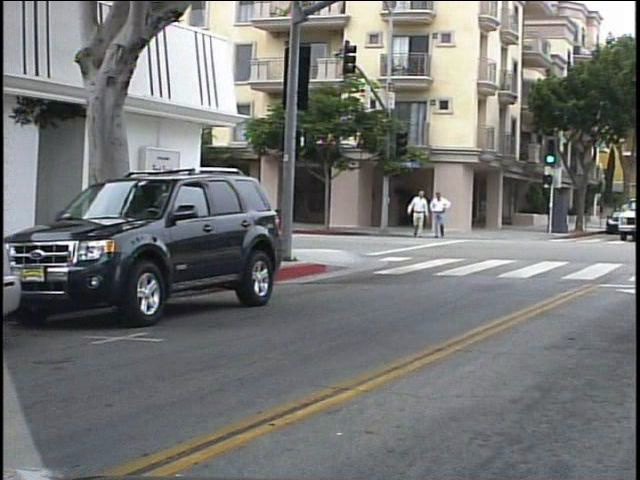person: (410, 186, 435, 245), (432, 188, 457, 243)
